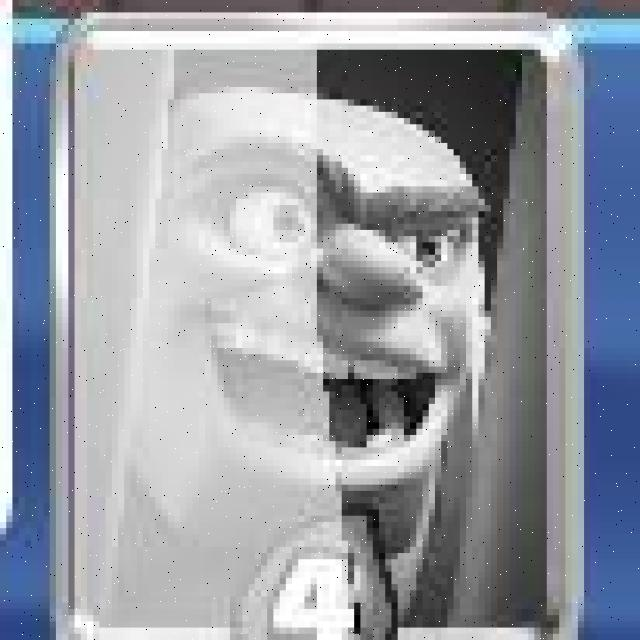Goblin_Cage: (51, 11, 578, 638)
